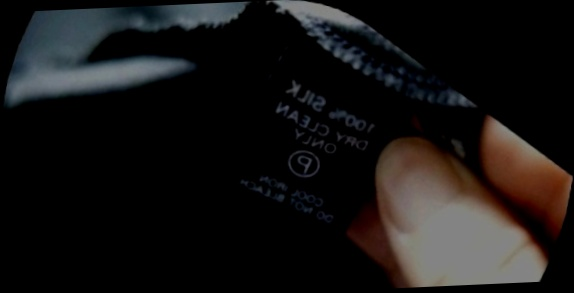dry_clean_any_solvent_except_trichloroethylene: (268, 128, 339, 197)
